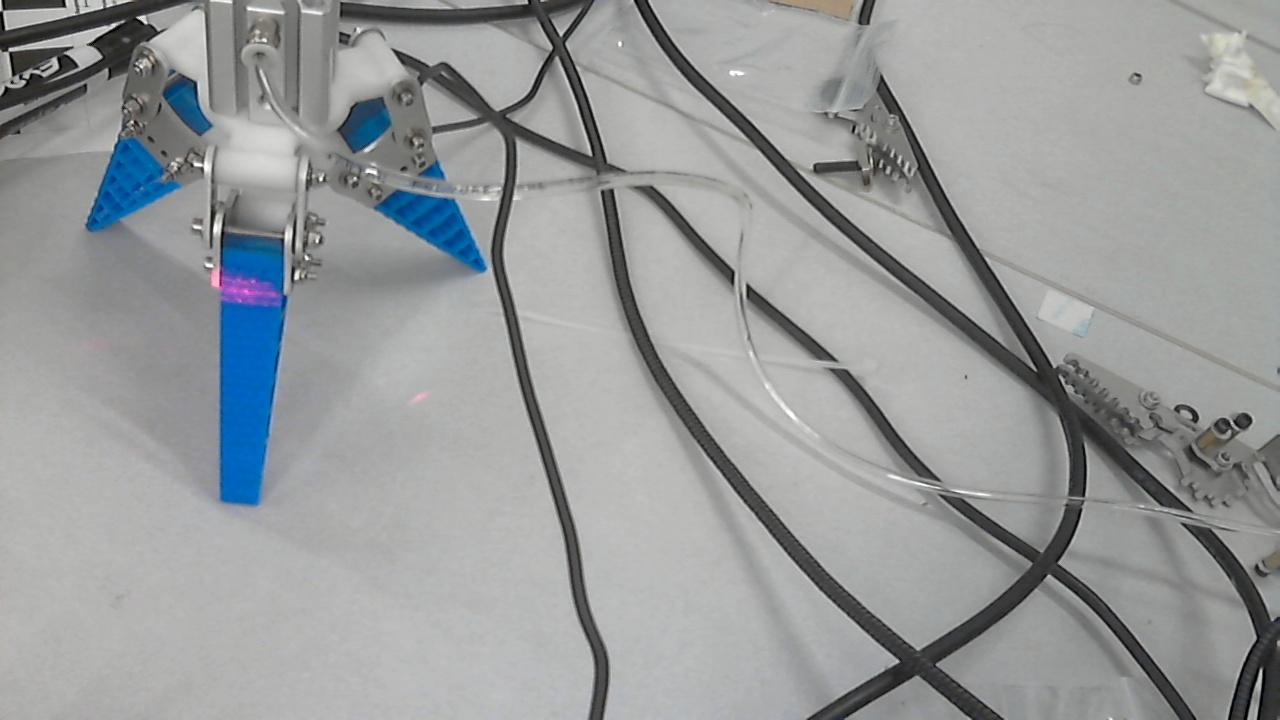Object rubber duck - Material rubber -Color blue - Pdfname BWuUnwTLudUE: (202, 246, 309, 321)
